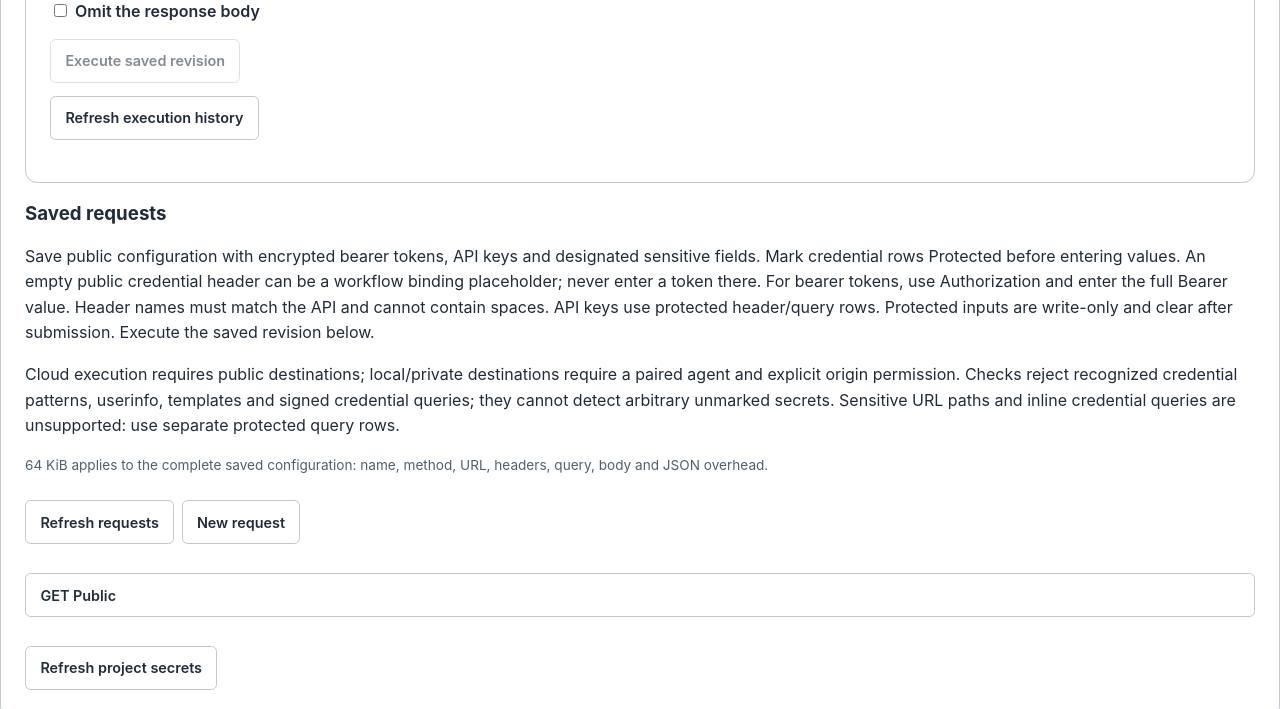
Test case: keeps stale drafts until explicit refresh and does not retry
The width and height of the screenshot is (1280, 709).
(page scrolled)
Click the button "GET Public" at point(95, 595), box x1=25 y1=573 x2=1255 y2=617
(page scrolled)
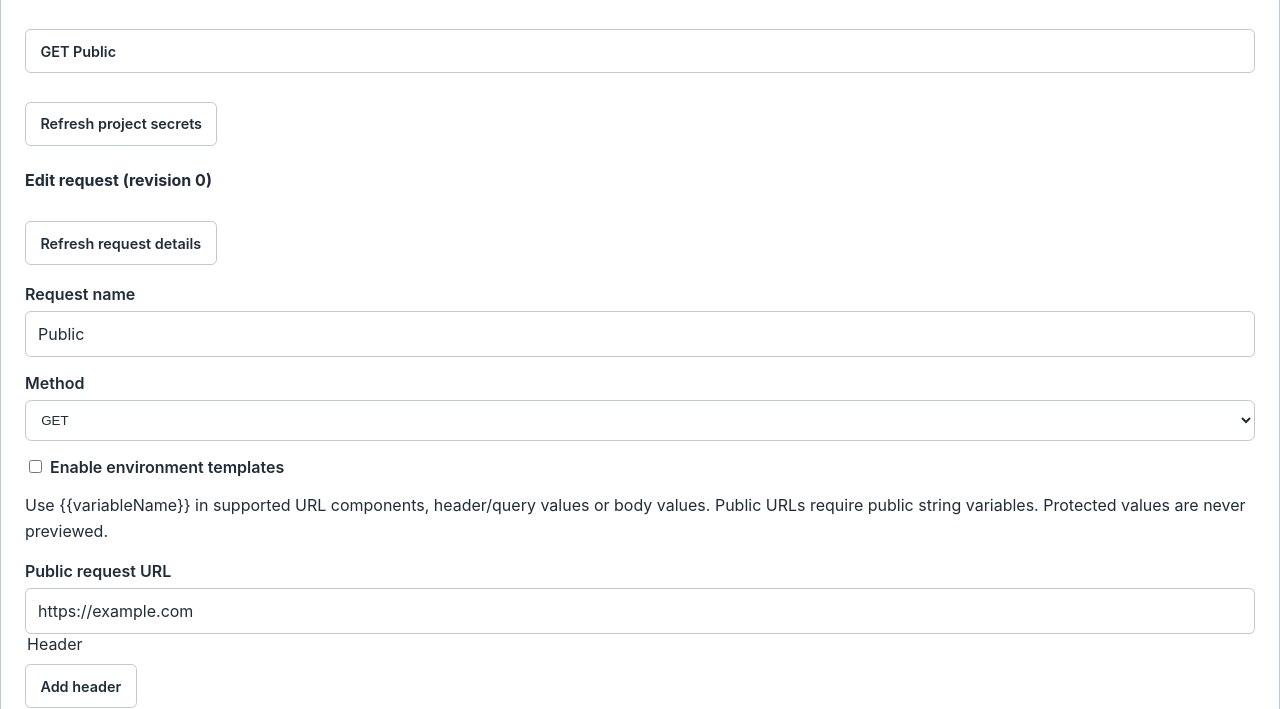
Result: the field labelled "Request name" is shown
Replace the text in the field labelled "Request name" with "My draft" at point(640, 334), box x1=25 y1=311 x2=1255 y2=357
(page scrolled)
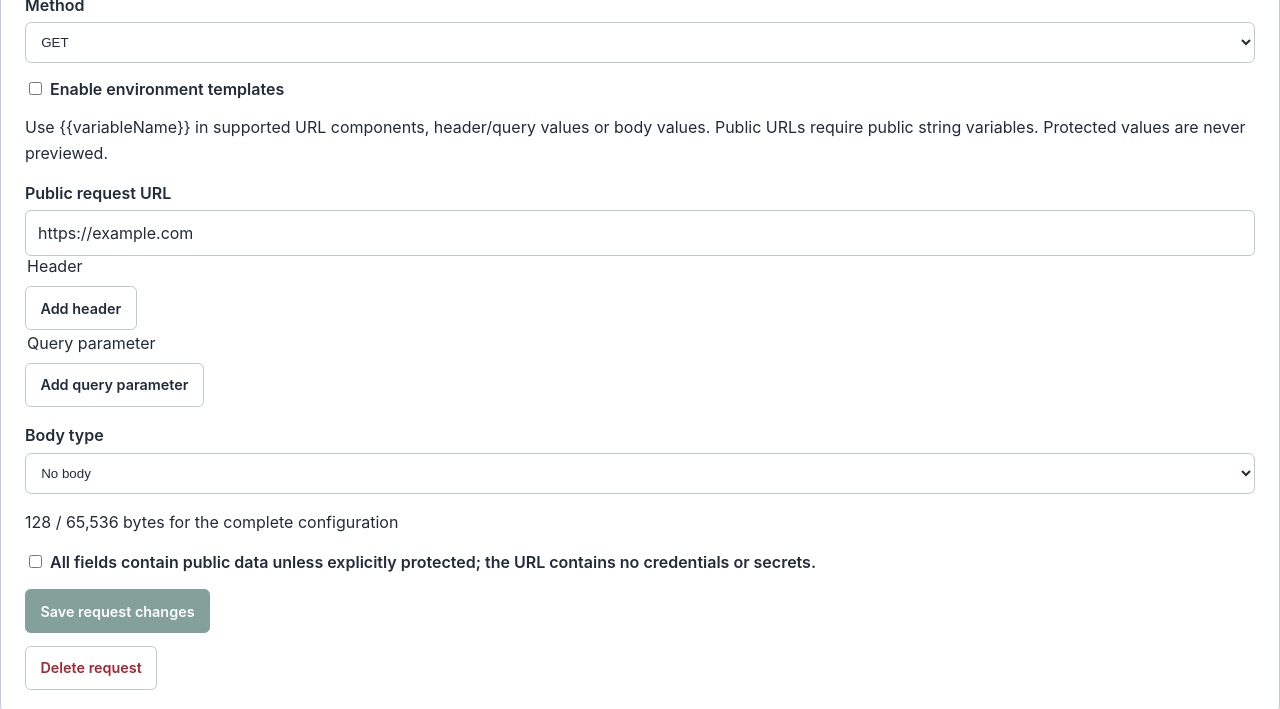
Click the checkbox labelled "All fields contain public data" at point(36, 561), box x1=29 y1=554 x2=42 y2=568
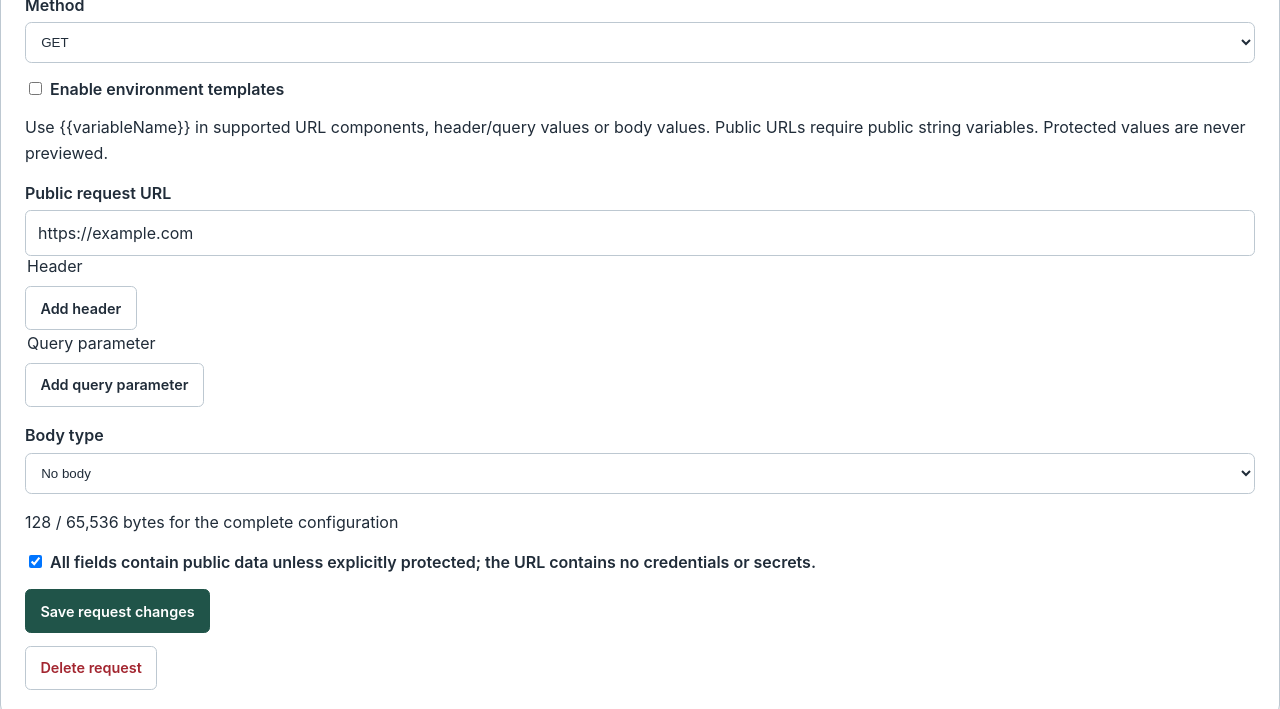
Click the button "Save request changes" at point(118, 611), box x1=25 y1=589 x2=210 y2=633
(page scrolled)
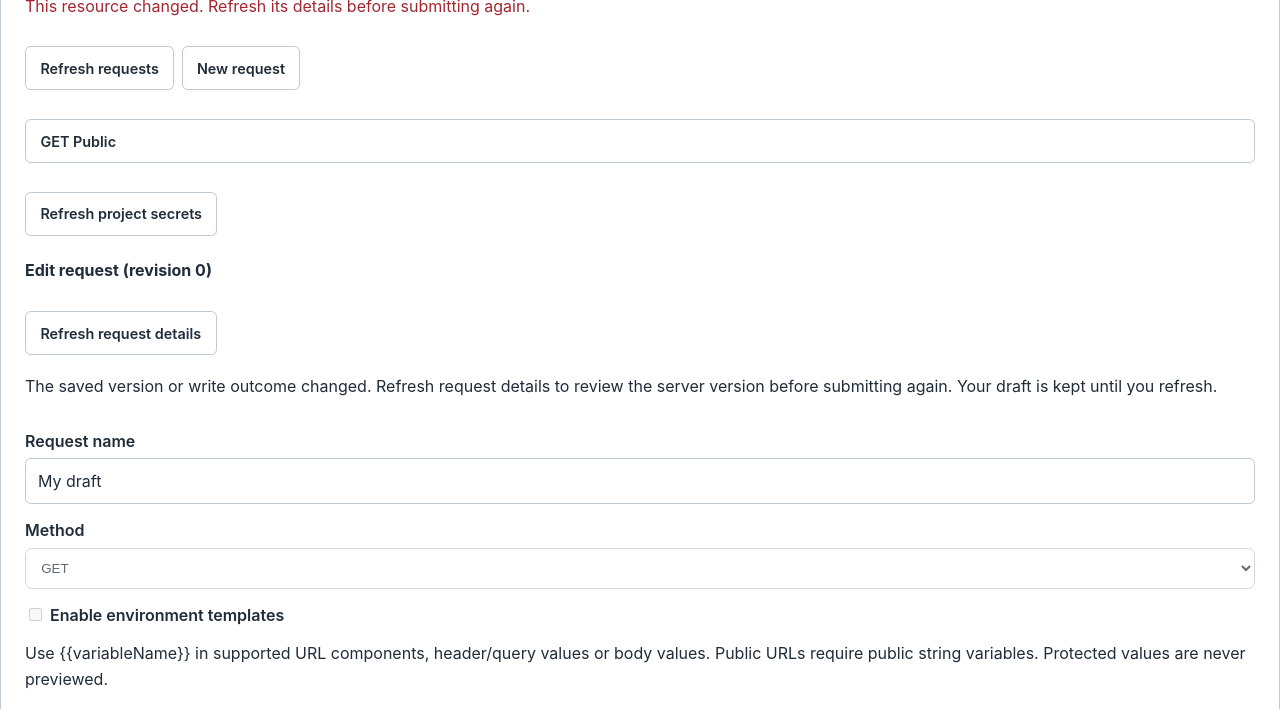
Result: the text "saved version or write outcome changed" is shown at x1=25 y1=376 x2=1217 y2=396
Click the button "Refresh request details" at point(121, 333), box x1=25 y1=311 x2=216 y2=355
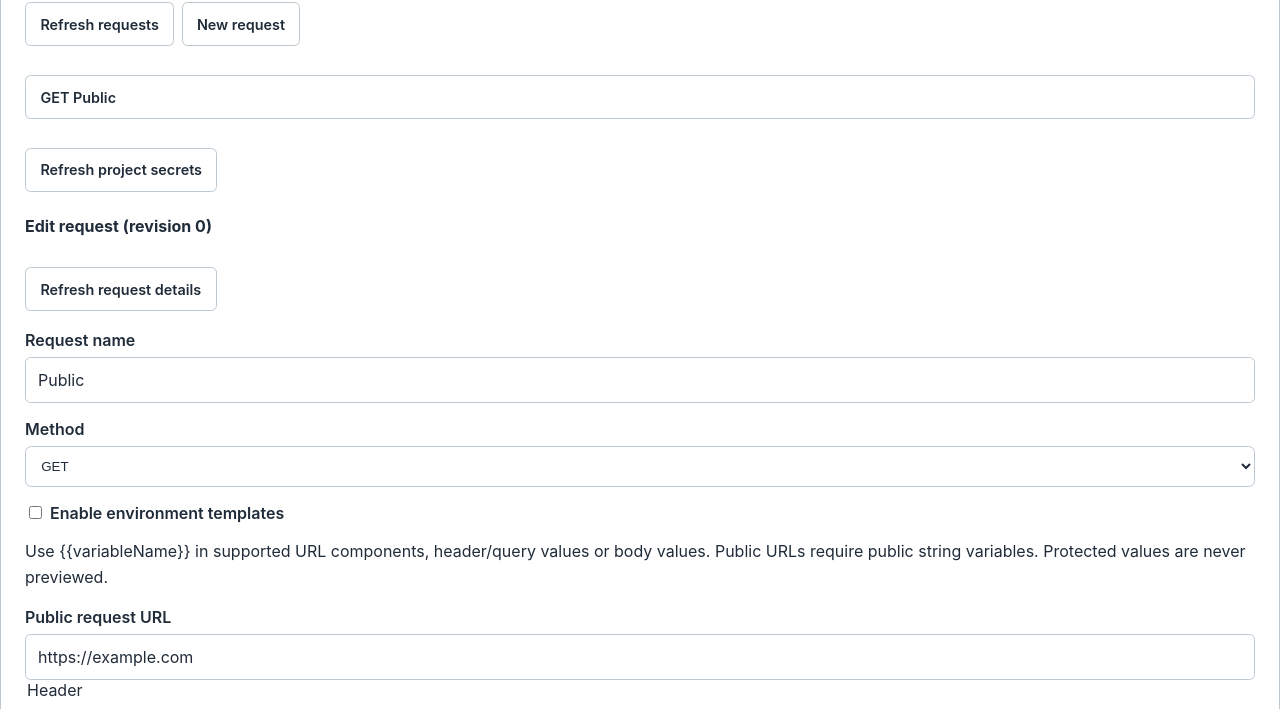
Result: the field labelled "Request name" holds "Public" at x1=25 y1=357 x2=1255 y2=403
